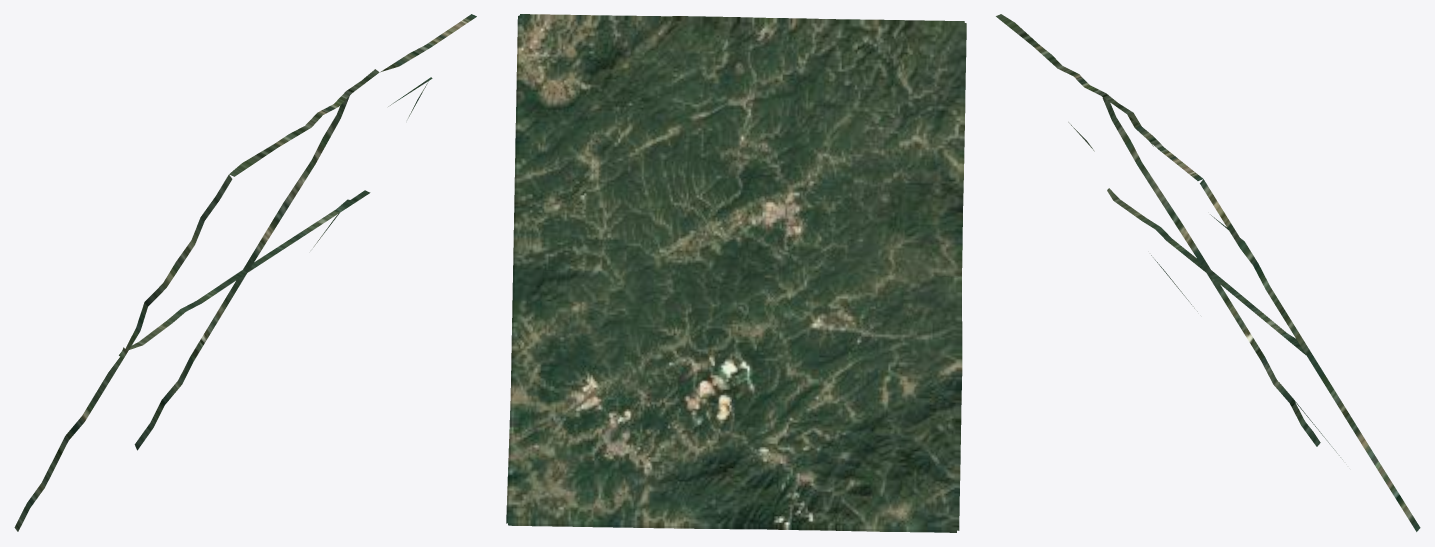
The picture shows the model from 3 angles, left to right: view 1: azimuth 30°, elevation 25°; view 2: azimuth 150°, elevation 25°; view 3: azimuth 270°, elevation 25°; orthographic projection. The views are drawn at different scales.
Bounding box in the file's own units: 79426 × 69708 × 66447.
Materials: 1 (1 with a texture image).
